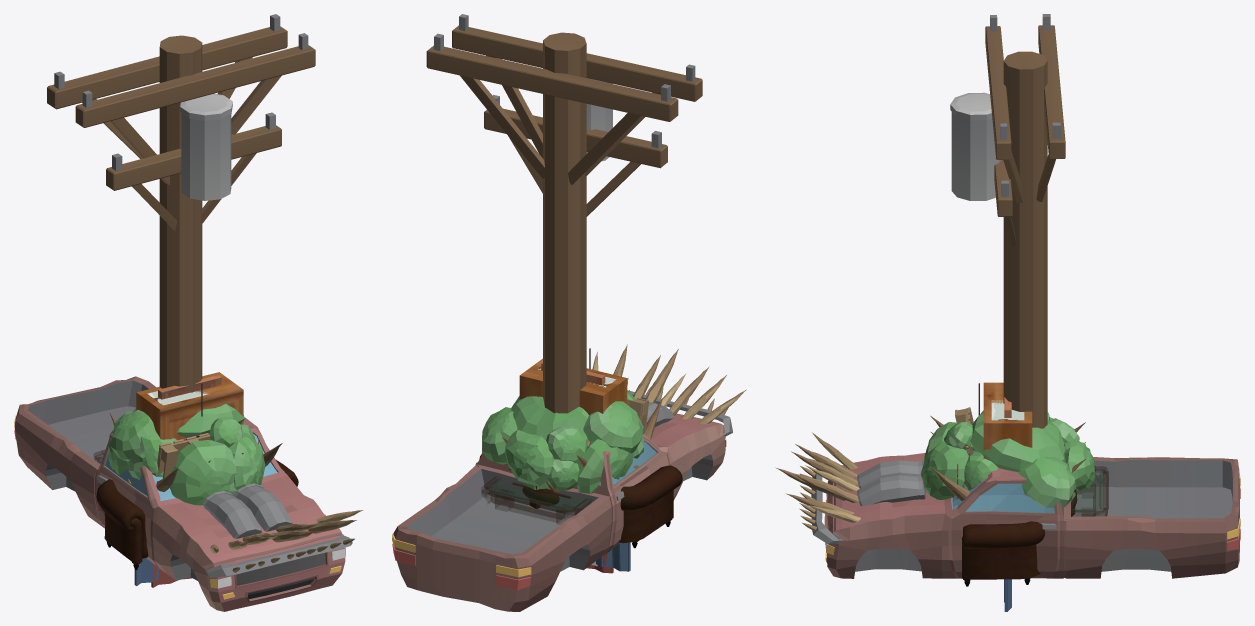
File: props.glb
The picture shows the model from 3 angles, left to right: view 1: azimuth 30°, elevation 25°; view 2: azimuth 150°, elevation 25°; view 3: azimuth 270°, elevation 25°; orthographic projection.
Visible parts, largest first — view 1: pole, car, bush, wardrobe, sofa, pallets, door, sheet2; view 2: pole, car, bush, sofa, pool, wardrobe, sheet2, armchair; view 3: car, pole, bush, sofa, wardrobe, pool.
Boxes of the visible parts, x1,y1,x2,y2 form: pole: (47, 14, 315, 392); car: (14, 376, 363, 611); bush: (108, 404, 265, 505); wardrobe: (136, 372, 243, 440); sofa: (96, 460, 298, 569); pallets: (157, 433, 210, 478); door: (158, 375, 221, 399); sheet2: (134, 558, 171, 585); pole: (426, 14, 702, 413); car: (392, 344, 746, 611); bush: (482, 391, 644, 493); sofa: (479, 454, 682, 548); pool: (481, 348, 591, 524); wardrobe: (519, 358, 627, 415); sheet2: (596, 542, 630, 571); armchair: (522, 487, 559, 506); car: (775, 432, 1240, 578); pole: (950, 14, 1065, 428); bush: (920, 410, 1095, 507); sofa: (962, 521, 1045, 586); wardrobe: (983, 382, 1032, 459); pool: (956, 383, 1108, 516).
Size of the model in its own units: 3.44 by 7.21 by 5.74.
Materials: 40 (40 with a texture image).
